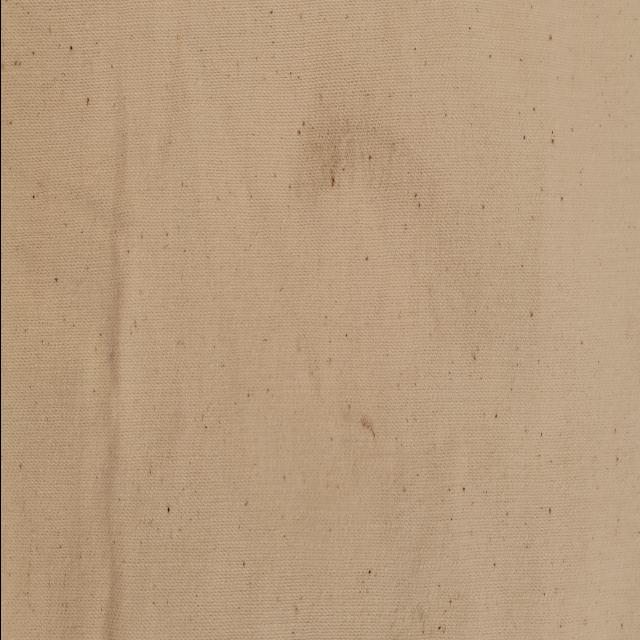taaaches: (284, 90, 420, 220), (346, 402, 384, 454)
